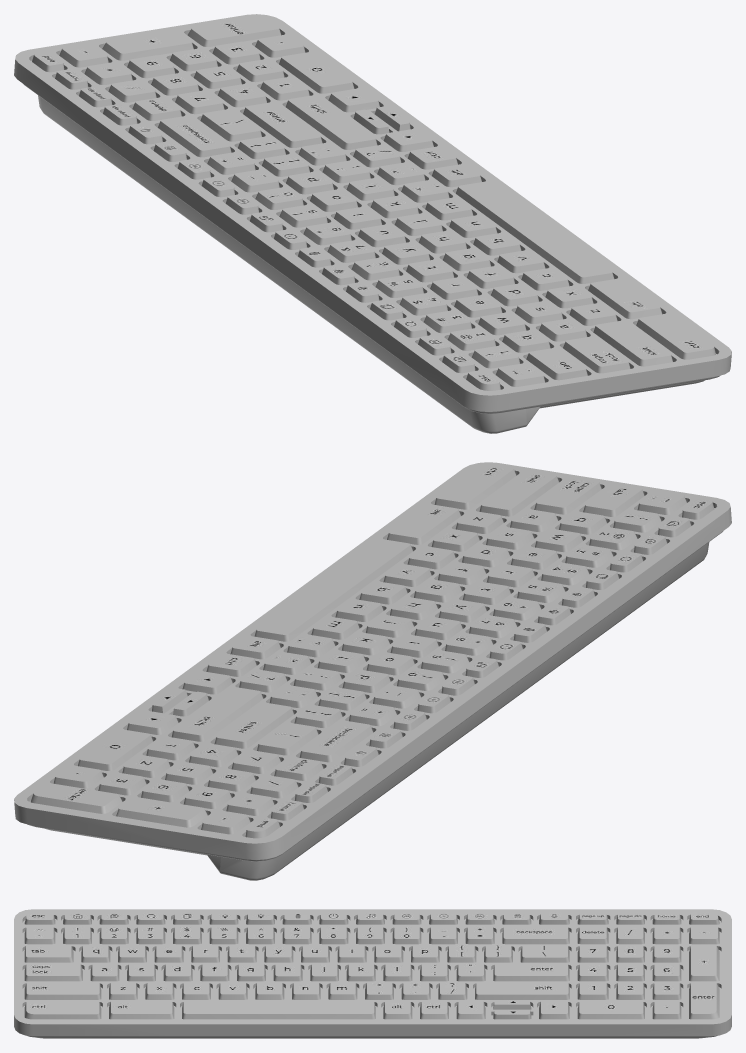
Rendered from keyboard.glb.
The picture shows the model from 3 angles, top to bottom: view 1: azimuth 30°, elevation 25°; view 2: azimuth 150°, elevation 25°; view 3: azimuth 270°, elevation 25°; orthographic projection. The views are drawn at different scales.
Parts seen in each view (by area): view 1: keyboard.003; view 2: keyboard.003; view 3: keyboard.003.
Part boxes in pixels (x1,y1,x2,y2): keyboard.003: [14, 14, 731, 433]; keyboard.003: [14, 462, 731, 880]; keyboard.003: [14, 909, 731, 1038].
Size of the model in its own units: 0.2256 by 0.0432 by 0.6945.
Materials: 1 (1 with a texture image).
